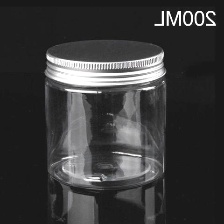plastic_box: (36, 32, 176, 196)
